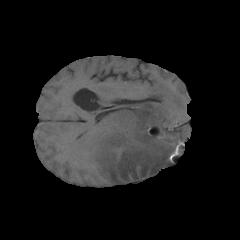glioma: (86, 83, 190, 183)
